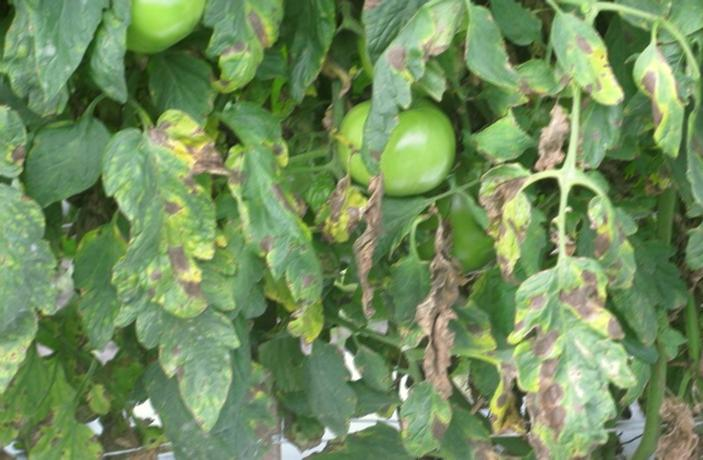Tomato Early blight leaf: (105, 103, 222, 333), (505, 260, 615, 460), (228, 85, 307, 353), (355, 0, 462, 169), (0, 175, 54, 393), (201, 0, 300, 92), (467, 165, 549, 265), (548, 13, 609, 119), (584, 192, 634, 313), (630, 48, 687, 151), (393, 385, 453, 460)
